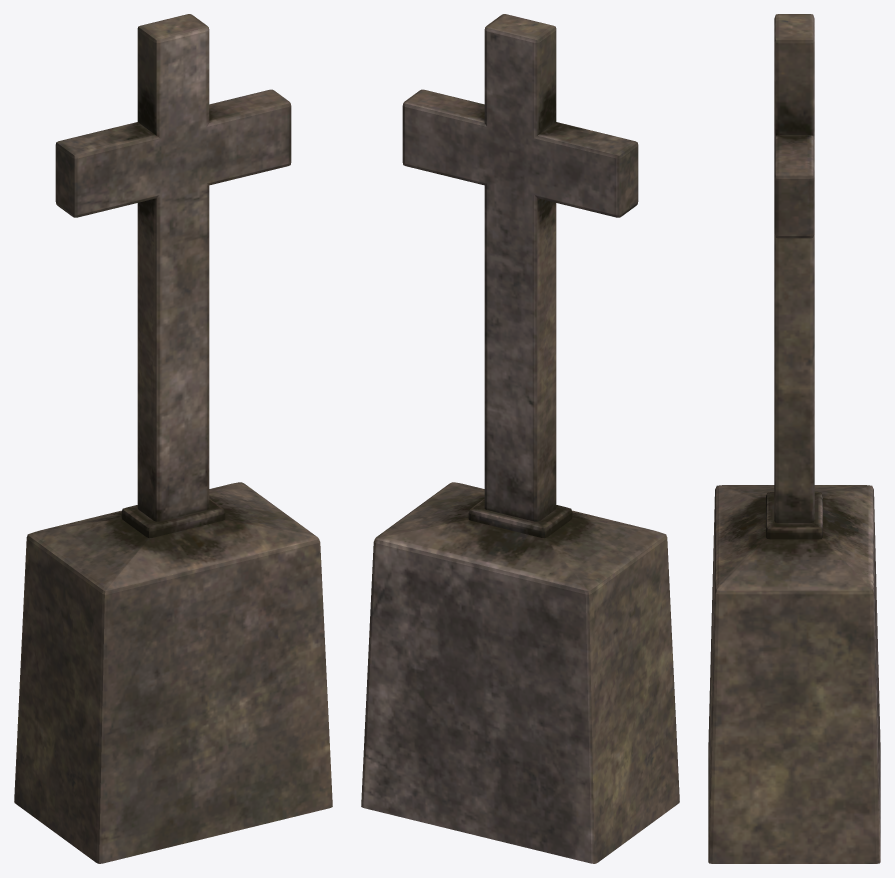
Rendered from SM_gravestone_20.fbx.
The picture shows the model from 3 angles, left to right: view 1: azimuth 30°, elevation 25°; view 2: azimuth 150°, elevation 25°; view 3: azimuth 270°, elevation 25°; orthographic projection.
Parts seen in each view (by area): view 1: SM_gravestone_020; view 2: SM_gravestone_020; view 3: SM_gravestone_020.
Part boxes in pixels (box(x1,y1,x2,y2)): SM_gravestone_020: box(14, 14, 332, 863); SM_gravestone_020: box(361, 14, 679, 863); SM_gravestone_020: box(708, 14, 880, 863).
Size of the model in its own units: 21.24 by 67.06 by 13.43.
